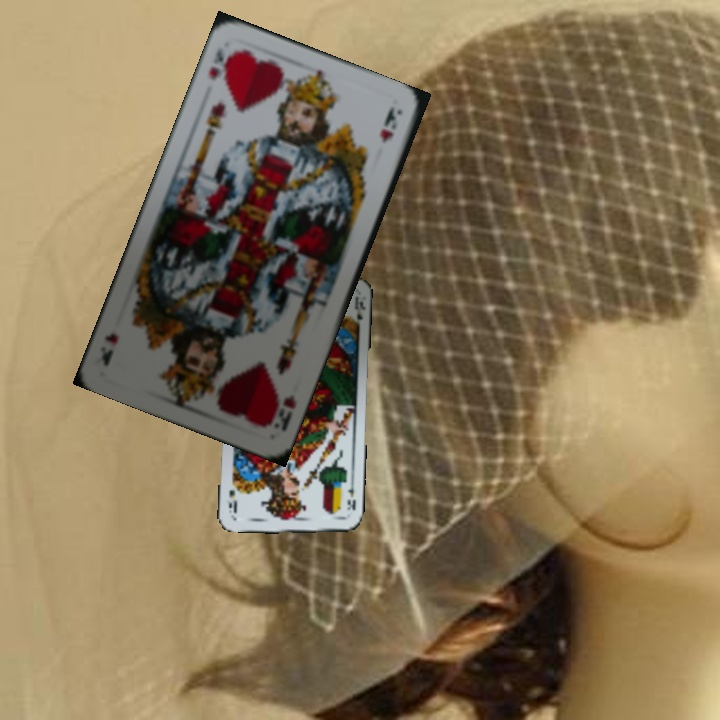EK: (343, 479, 358, 513)
HK: (204, 44, 239, 83), (270, 391, 299, 434)
